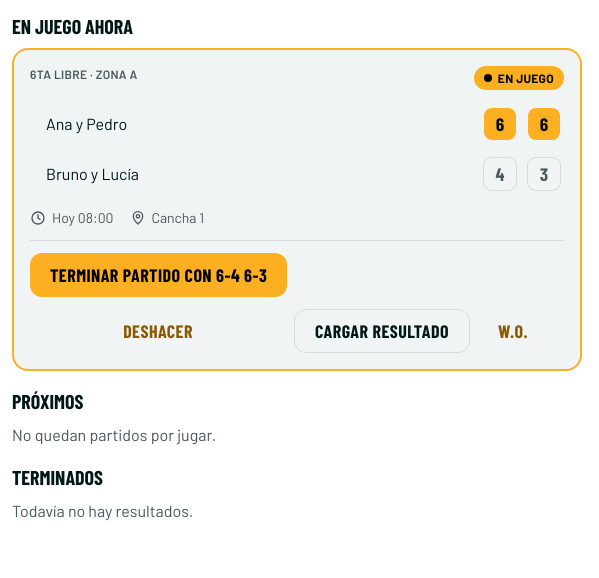
Test: MatchDayBoard live score › ends a decided match with its sets
Click the button "Terminar partido con 6-4 6-3" at x=159, y=275, box [30,253,287,297]
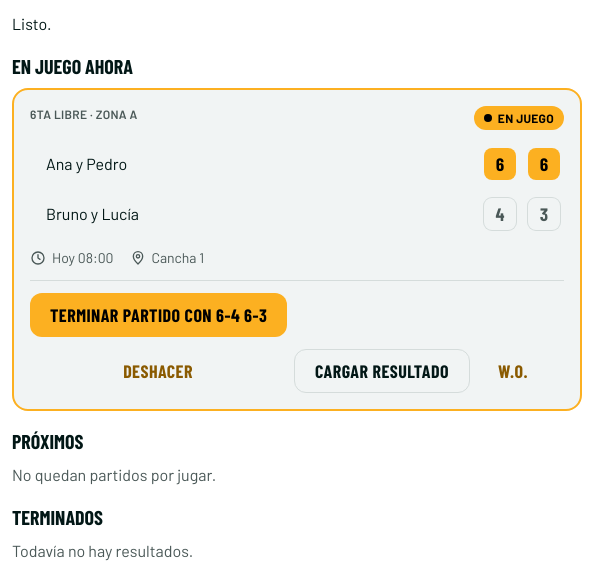
Result: the message reads "Listo." at [12,14,52,33]
